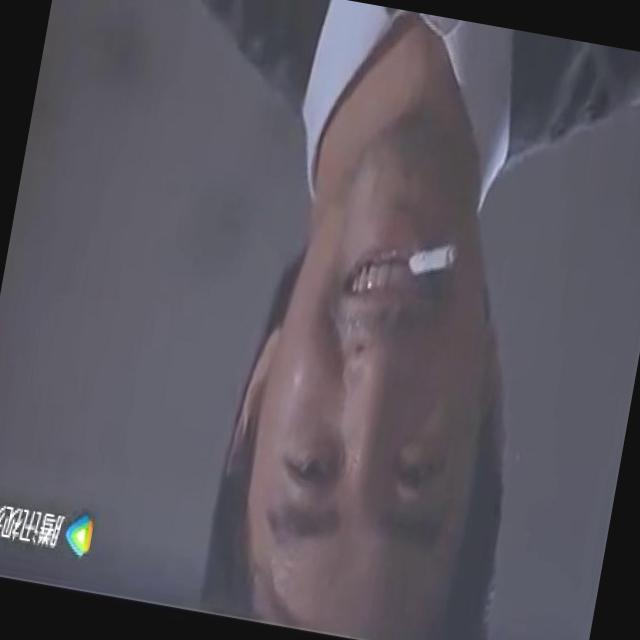cigarette: (396, 226, 468, 290)
